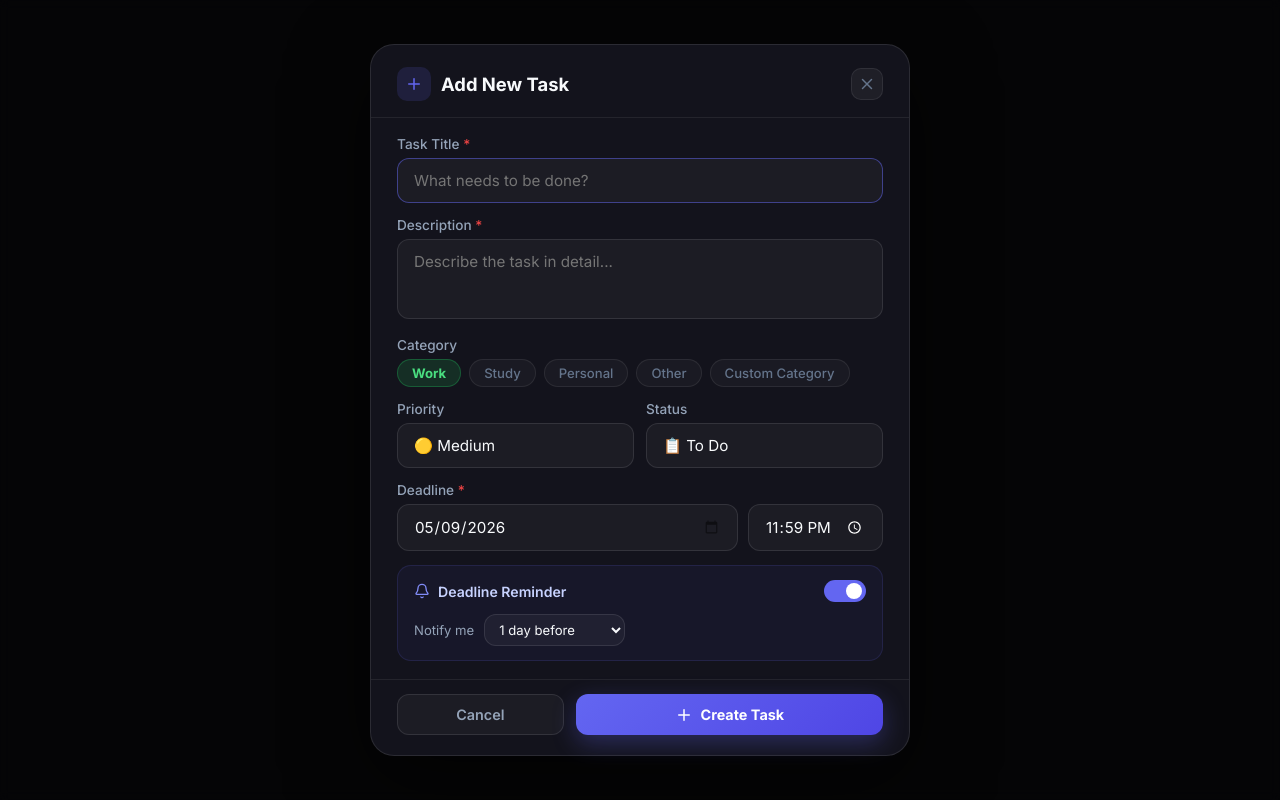
AddTaskModal › shows "Task title is required" when title is empty on submit
Click the button "Create Task": [729, 715] box [576,694,883,736]
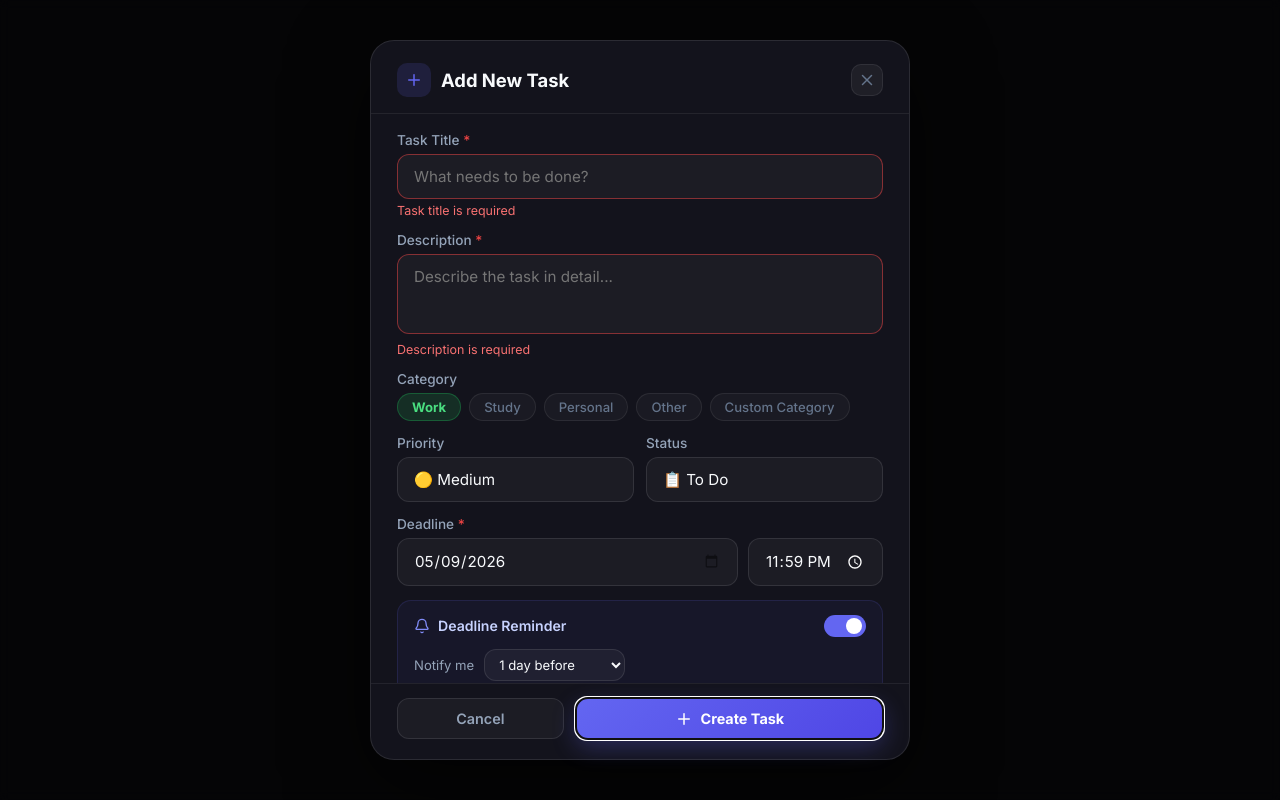
Expected: the text "Task title is required" is shown, [397,203,515,218]
